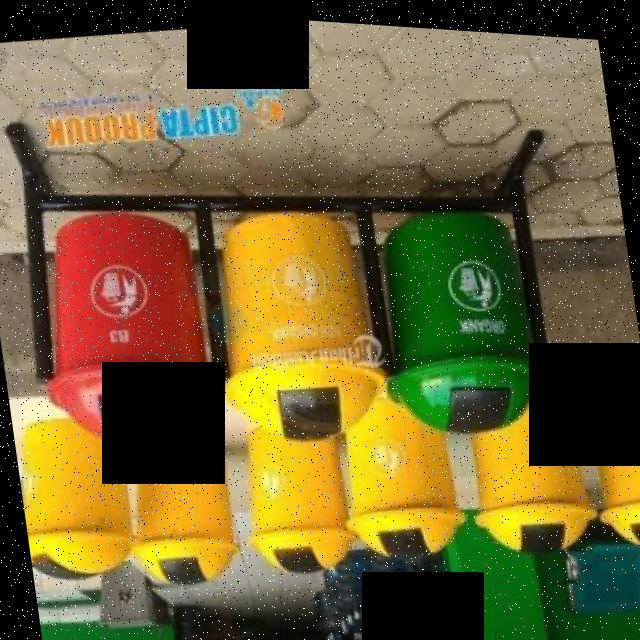bin: (195, 182, 400, 461), (17, 190, 228, 459), (357, 173, 558, 449), (448, 369, 600, 560), (327, 377, 473, 568), (225, 407, 363, 583), (11, 405, 139, 592), (119, 422, 249, 597), (576, 374, 640, 554)
